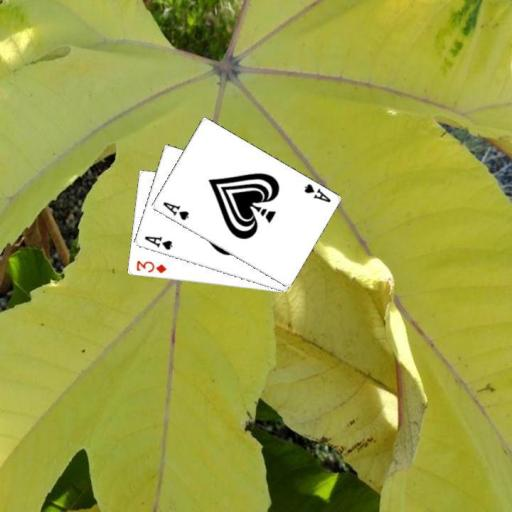3D: (133, 258, 168, 275)
AS: (159, 198, 190, 222), (301, 181, 332, 204), (141, 233, 173, 252)
